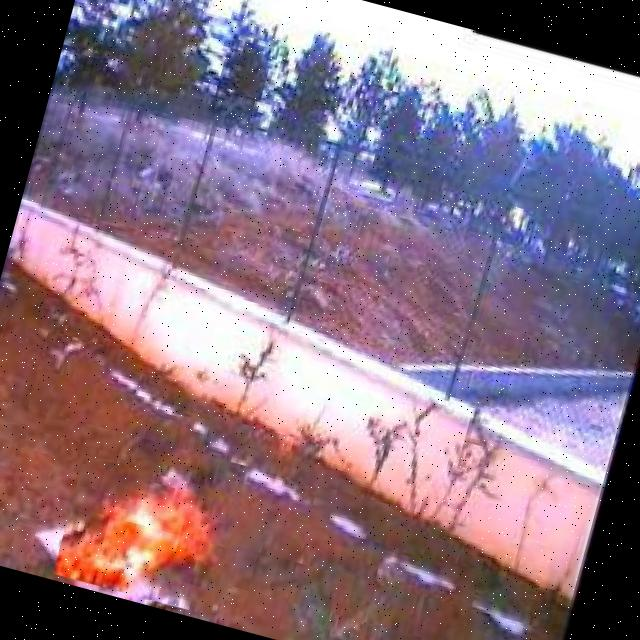fire: (52, 454, 242, 616)
